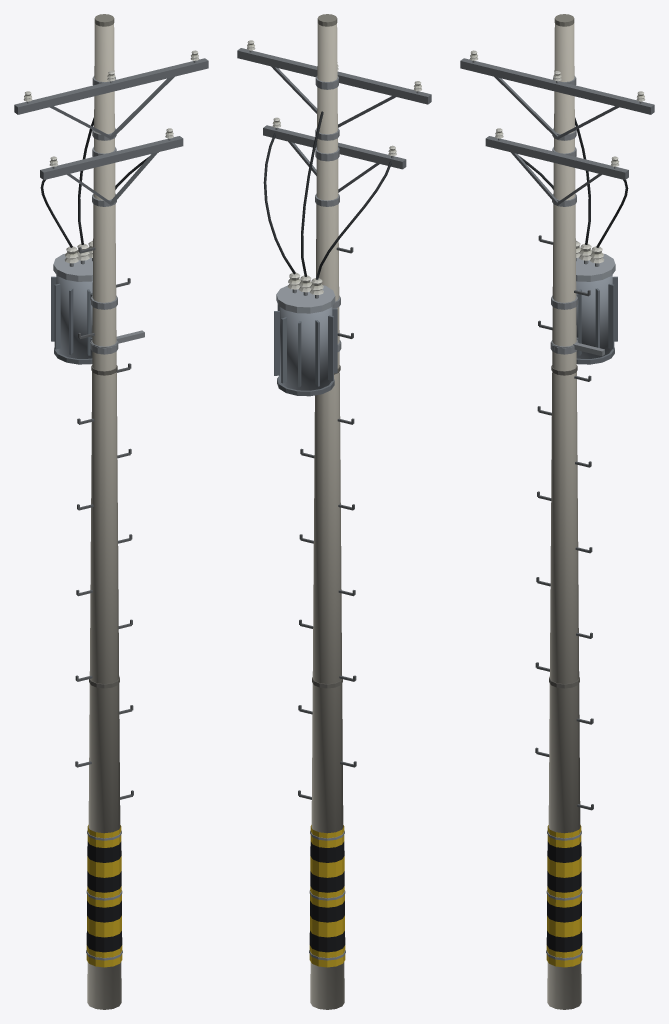
File: pole_tr.glb
The picture shows the model from 3 angles, left to right: view 1: azimuth 30°, elevation 25°; view 2: azimuth 150°, elevation 25°; view 3: azimuth 330°, elevation 25°; orthographic projection.
Visible parts, largest first — view 1: pole_tr; view 2: pole_tr; view 3: pole_tr.
Part boxes in pixels (bbox=[...]): pole_tr: bbox=[14, 14, 208, 1009]; pole_tr: bbox=[237, 14, 431, 1009]; pole_tr: bbox=[460, 14, 654, 1009].
Size of the model in its own units: 2.24 by 11.05 by 0.9468.
